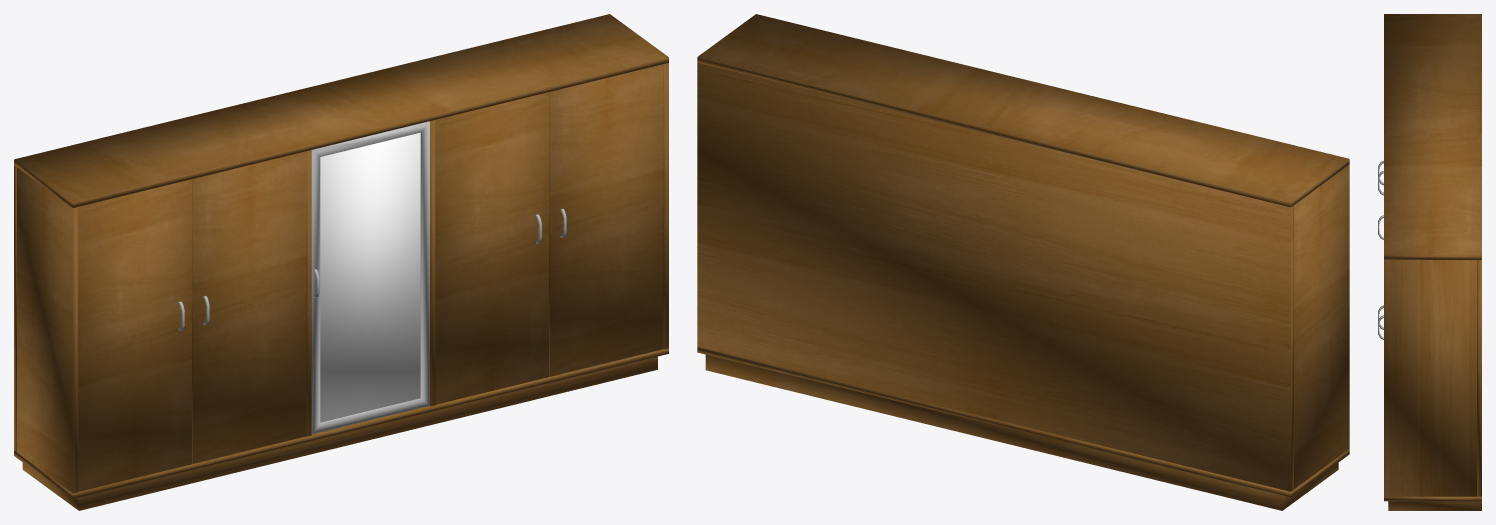
Rendered from office_furniture1.glb.
3 renders of one model, left to right at view 1: azimuth 30°, elevation 25°; view 2: azimuth 150°, elevation 25°; view 3: azimuth 270°, elevation 25°, orthographic. The views are drawn at different scales.
Parts seen in each view (by area): view 1: oficina_armario_Cube.014, glass_Cube; view 2: oficina_armario_Cube.014; view 3: oficina_armario_Cube.014.
Boxes of the visible parts, left/top/right/bottom form: oficina_armario_Cube.014: left=14, top=14, right=668, bottom=510; glass_Cube: left=320, top=132, right=420, bottom=422; oficina_armario_Cube.014: left=697, top=14, right=1349, bottom=510; oficina_armario_Cube.014: left=1378, top=14, right=1481, bottom=510.
Size of the model in its own units: 2.99 by 1.5 by 0.5437.
6 materials, 2 textured.
